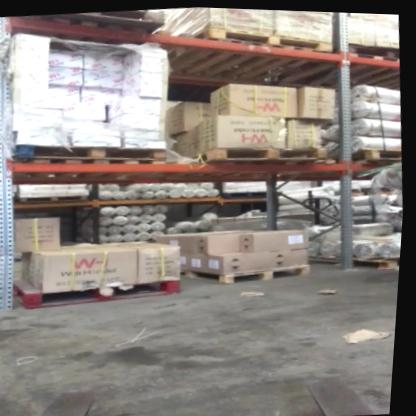vertical_damage: (1, 244, 25, 276)
